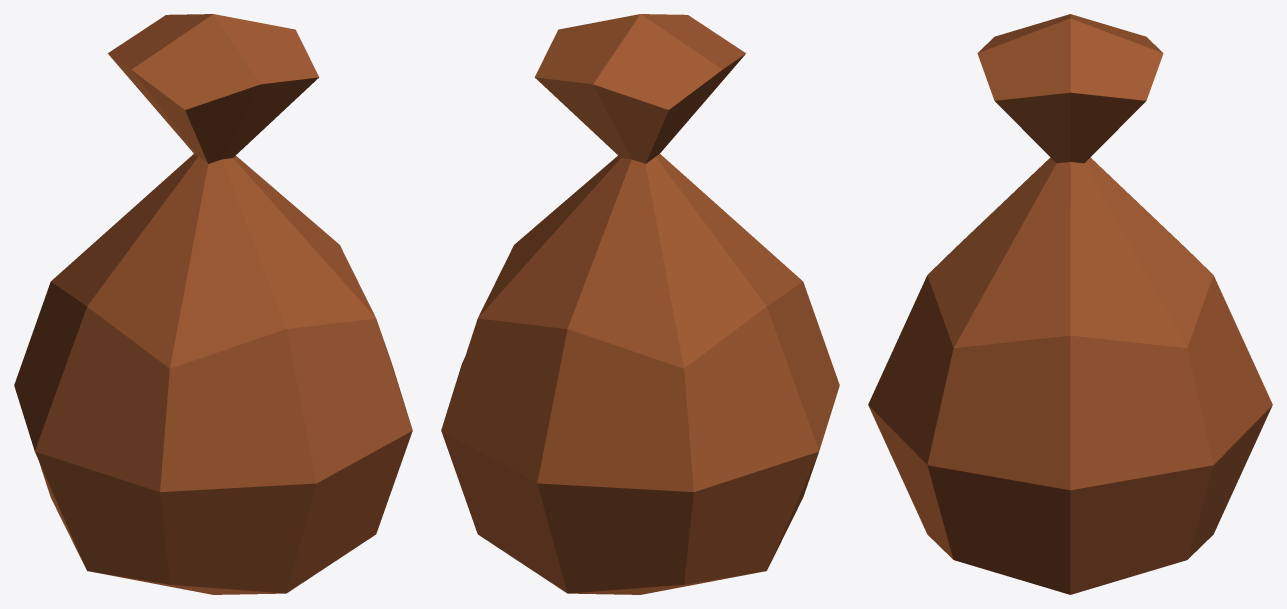
The model's file is coinbag.fbx.
3 views of the same model, side by side, from view 1: azimuth 30°, elevation 25°; view 2: azimuth 150°, elevation 25°; view 3: azimuth 270°, elevation 25° (orthographic).
Visible parts, largest first — view 1: Cube; view 2: Cube; view 3: Cube.
Boxes of the visible parts, x1,y1,x2,y2 form: Cube: (14, 14, 412, 594); Cube: (441, 14, 839, 594); Cube: (868, 14, 1272, 594).
Bounding box in the file's own units: 17.81 × 27.66 × 17.81.
